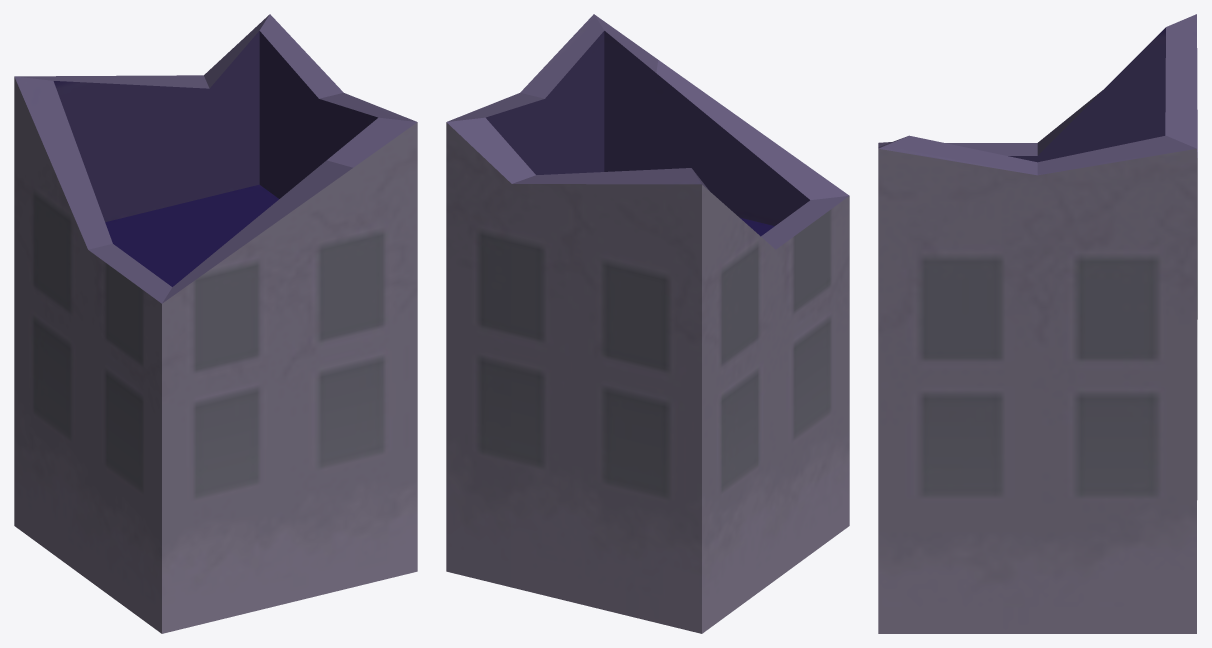
File: HouseObstacle.fbx
The picture shows the model from 3 angles, left to right: view 1: azimuth 30°, elevation 25°; view 2: azimuth 150°, elevation 25°; view 3: azimuth 270°, elevation 25°; orthographic projection. The views are drawn at different scales.
Parts seen in each view (by area): view 1: houseObstacle; view 2: houseObstacle; view 3: houseObstacle.
Boxes of the visible parts, x1,y1,x2,y2 form: houseObstacle: (14,14,417,633); houseObstacle: (446,14,849,633); houseObstacle: (878,14,1197,633).
Size of the model in its own units: 1.36 by 2.29 by 1.36.
1 material, 1 textured.
